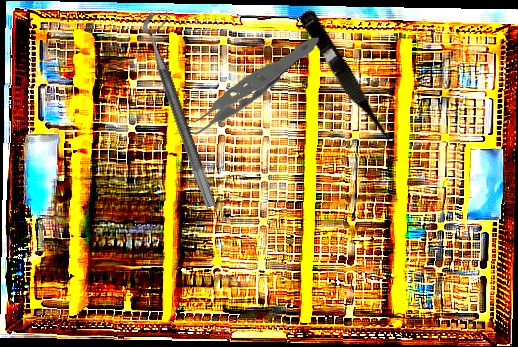Fixation Ring: (138, 7, 233, 209)
Micro Scissor: (294, 7, 400, 156)
Tissue Forceps: (164, 34, 326, 138)
